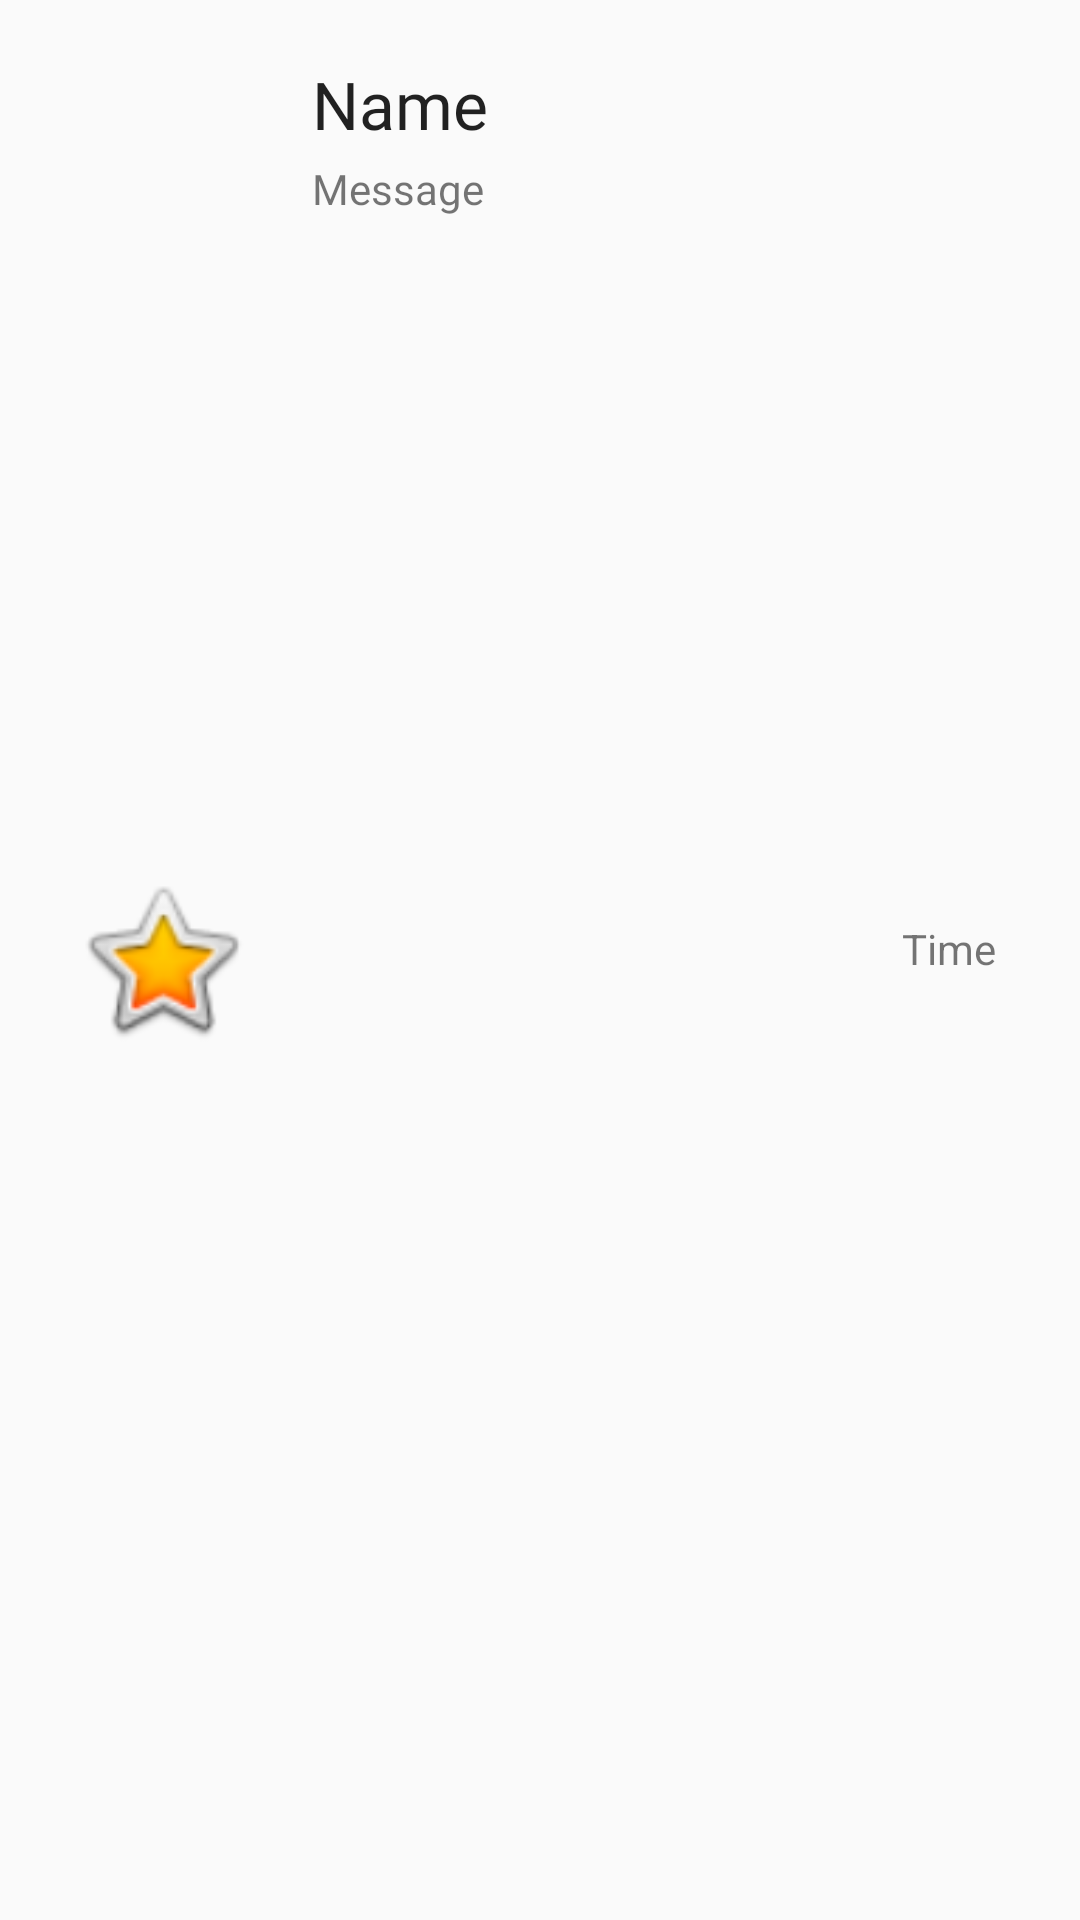

Icons on this 1080w x 1920h Android screen, each with the point to tap as (x,y):
star on: (163,961)
